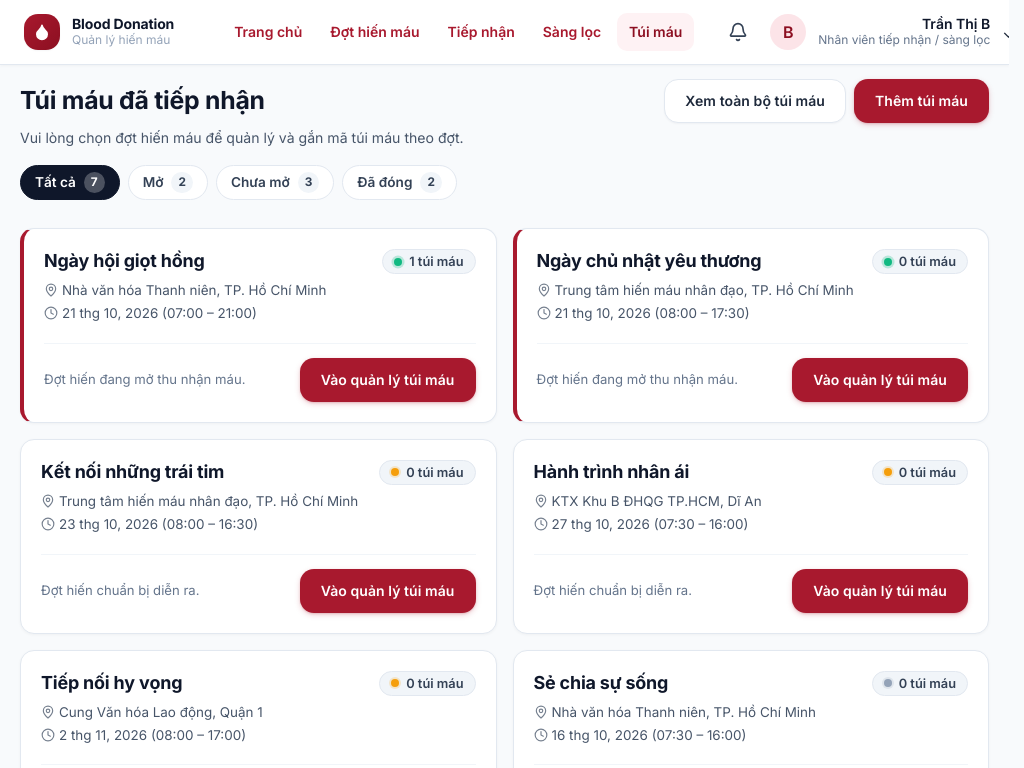
Test: clinic check-in page › opens blood bag detail modal and closes it
Click the button "Xem toàn bộ túi máu" at (755, 101), box 664,79 -> 846,123
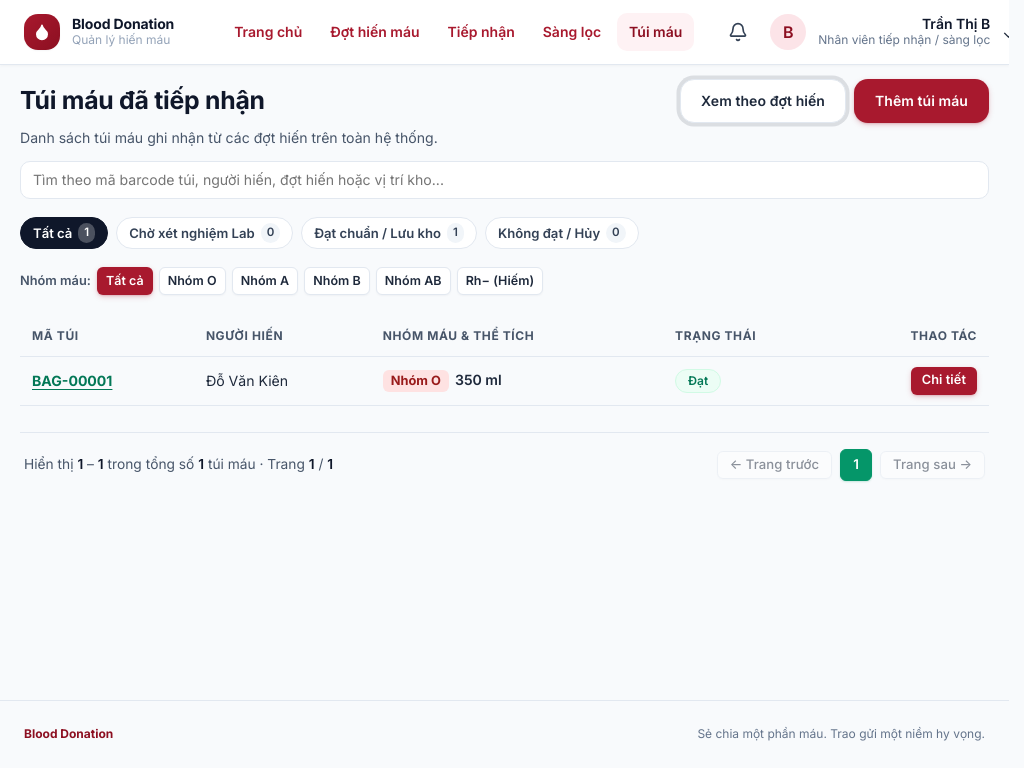
Expected: the button "Chi tiết" is shown
Click the button "Chi tiết" at (944, 381), box 911,367 -> 977,395
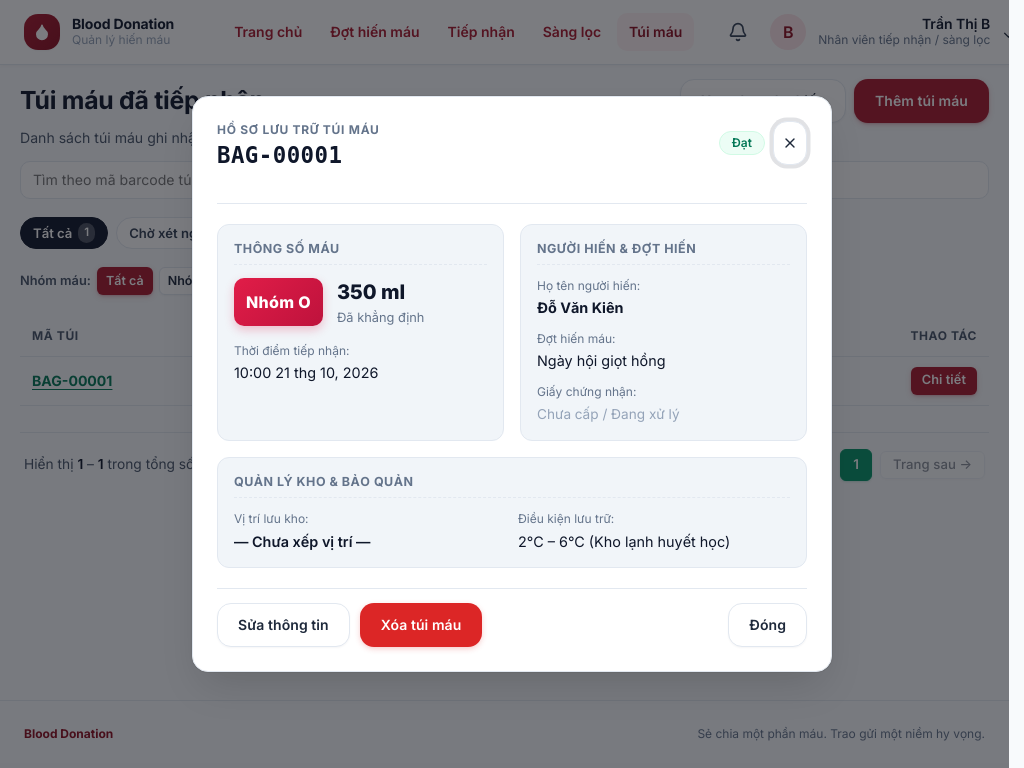
Expected: the text "Hồ sơ lưu trữ túi máu" is shown, 217,121 -> 380,140
Expected: the text "Quản lý kho & Bảo quản" is shown, 234,472 -> 790,498
Click the button "Đóng" at (768, 625), box 728,603 -> 807,647
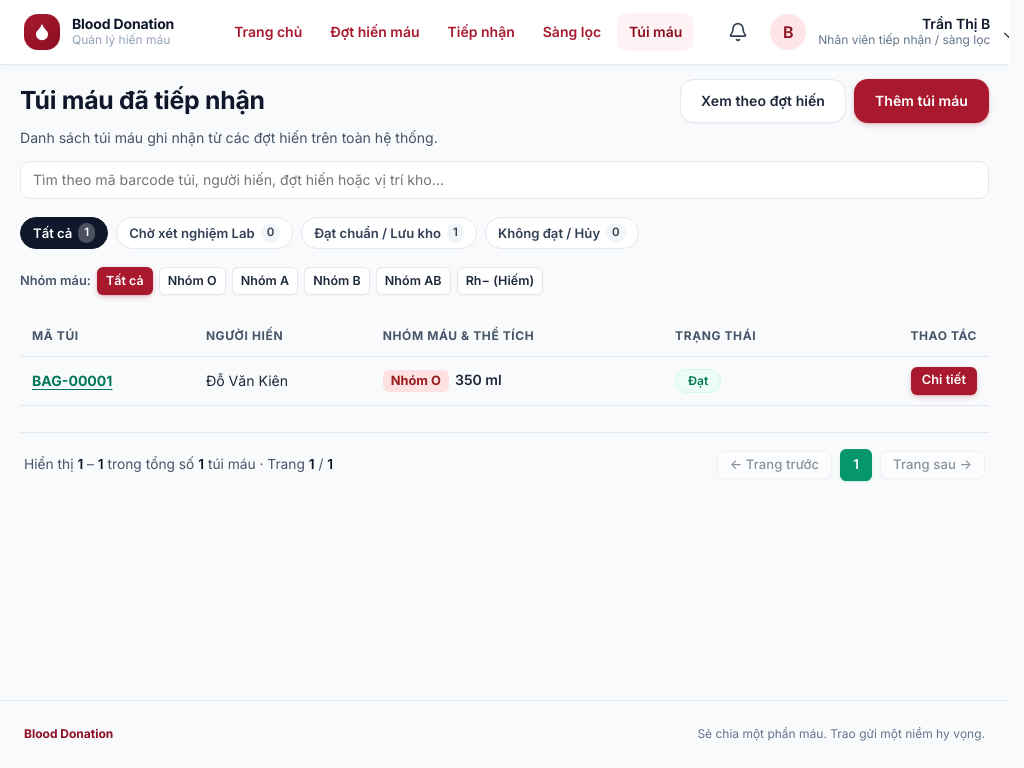
Expected: the text "Hồ sơ lưu trữ túi máu" is gone
